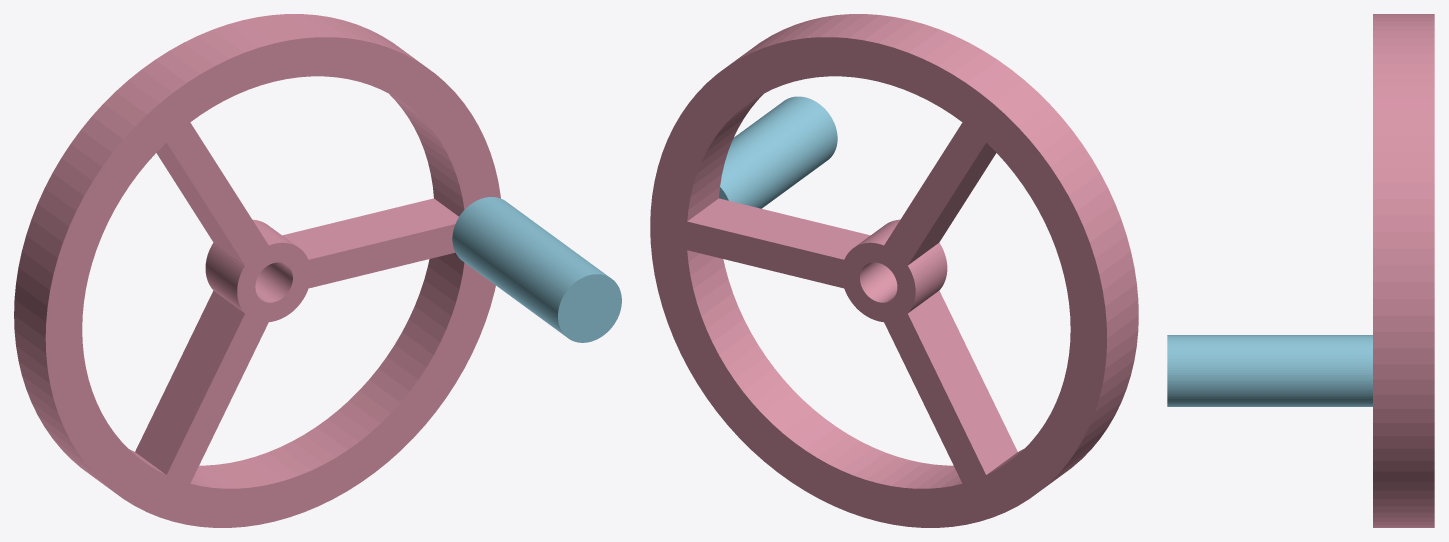
The model's file is handwheel_demo.glb.
3 views of the same model, side by side, from view 1: azimuth 30°, elevation 25°; view 2: azimuth 150°, elevation 25°; view 3: azimuth 270°, elevation 25° (orthographic). The views are drawn at different scales.
Visible parts, largest first — view 1: wheel, grip; view 2: wheel, grip; view 3: wheel, grip.
Part boxes in pixels (x1,y1,x2,y2): wheel: [14, 14, 500, 527]; grip: [452, 197, 621, 342]; wheel: [650, 14, 1138, 527]; grip: [719, 96, 837, 208]; wheel: [1373, 14, 1434, 527]; grip: [1167, 335, 1372, 406].
Size of the model in its own units: 103 by 100 by 52.
